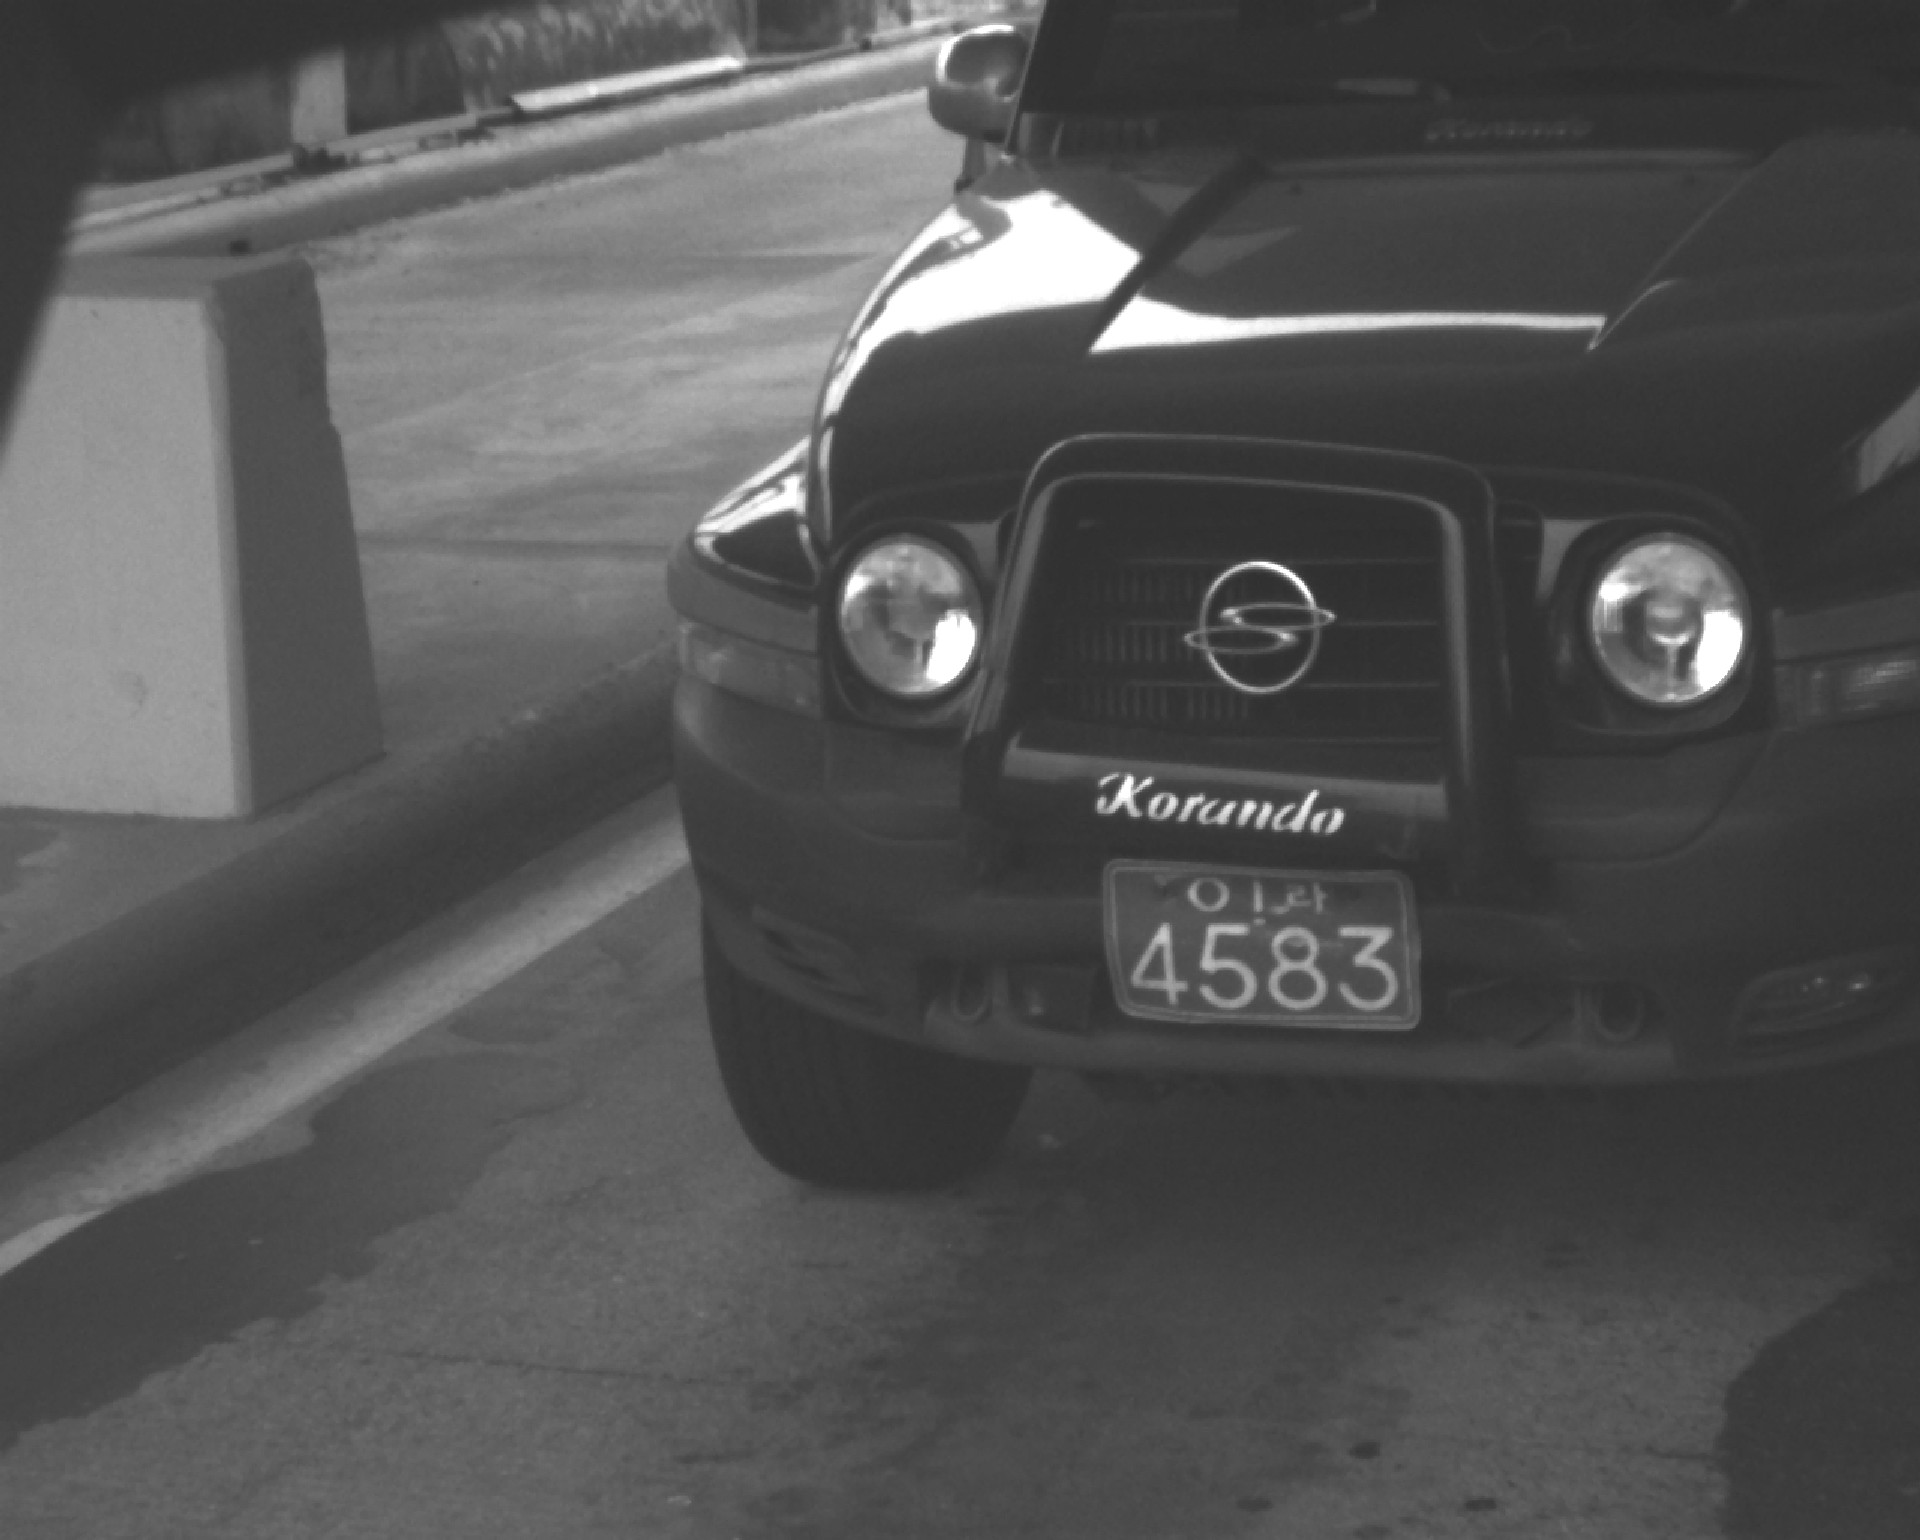car: (670, 1, 1920, 1190)
plate: (1100, 858, 1425, 1034)
